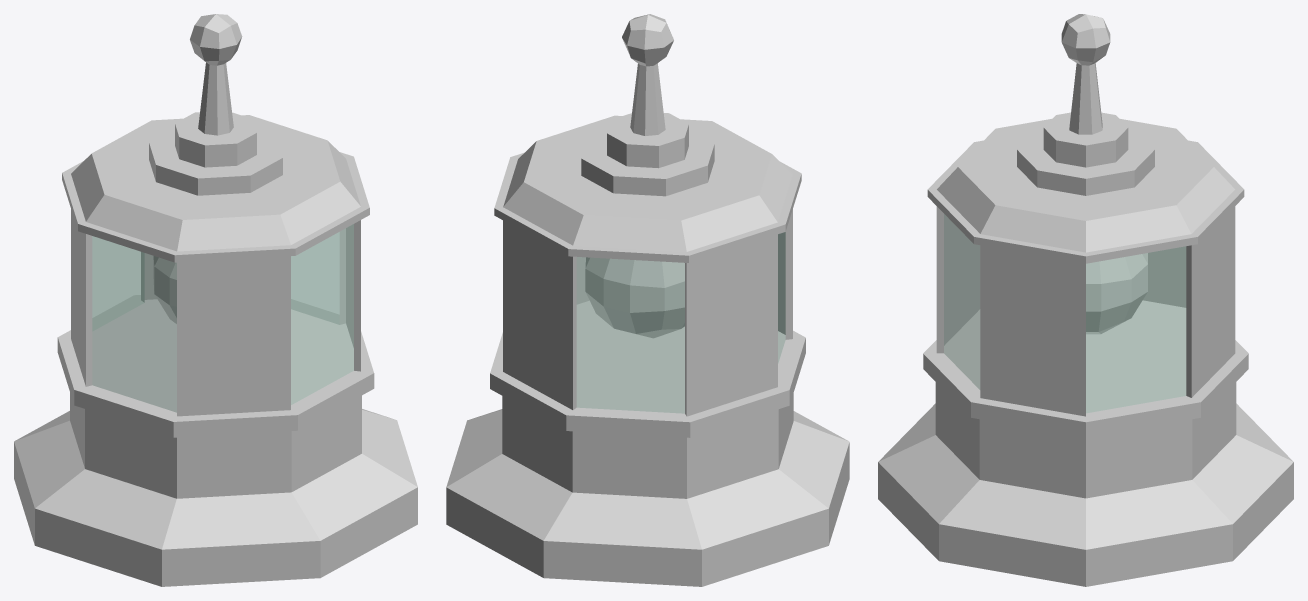
File: Inhibidor turret.fbx
3 renders of one model, left to right at view 1: azimuth 30°, elevation 25°; view 2: azimuth 150°, elevation 25°; view 3: azimuth 270°, elevation 25°, orthographic.
Parts seen in each view (by area): view 1: Cylinder, Cylinder.008; view 2: Cylinder, Cylinder.008; view 3: Cylinder, Cylinder.008.
Part boxes in pixels (box(x1,y1,x2,y2)): Cylinder: box(14, 14, 417, 586); Cylinder.008: box(92, 224, 353, 412); Cylinder: box(446, 14, 849, 586); Cylinder.008: box(577, 232, 785, 413); Cylinder: box(878, 14, 1293, 586); Cylinder.008: box(944, 214, 1185, 412).
Bounding box in the file's own units: 48.42 × 62.28 × 48.42.
